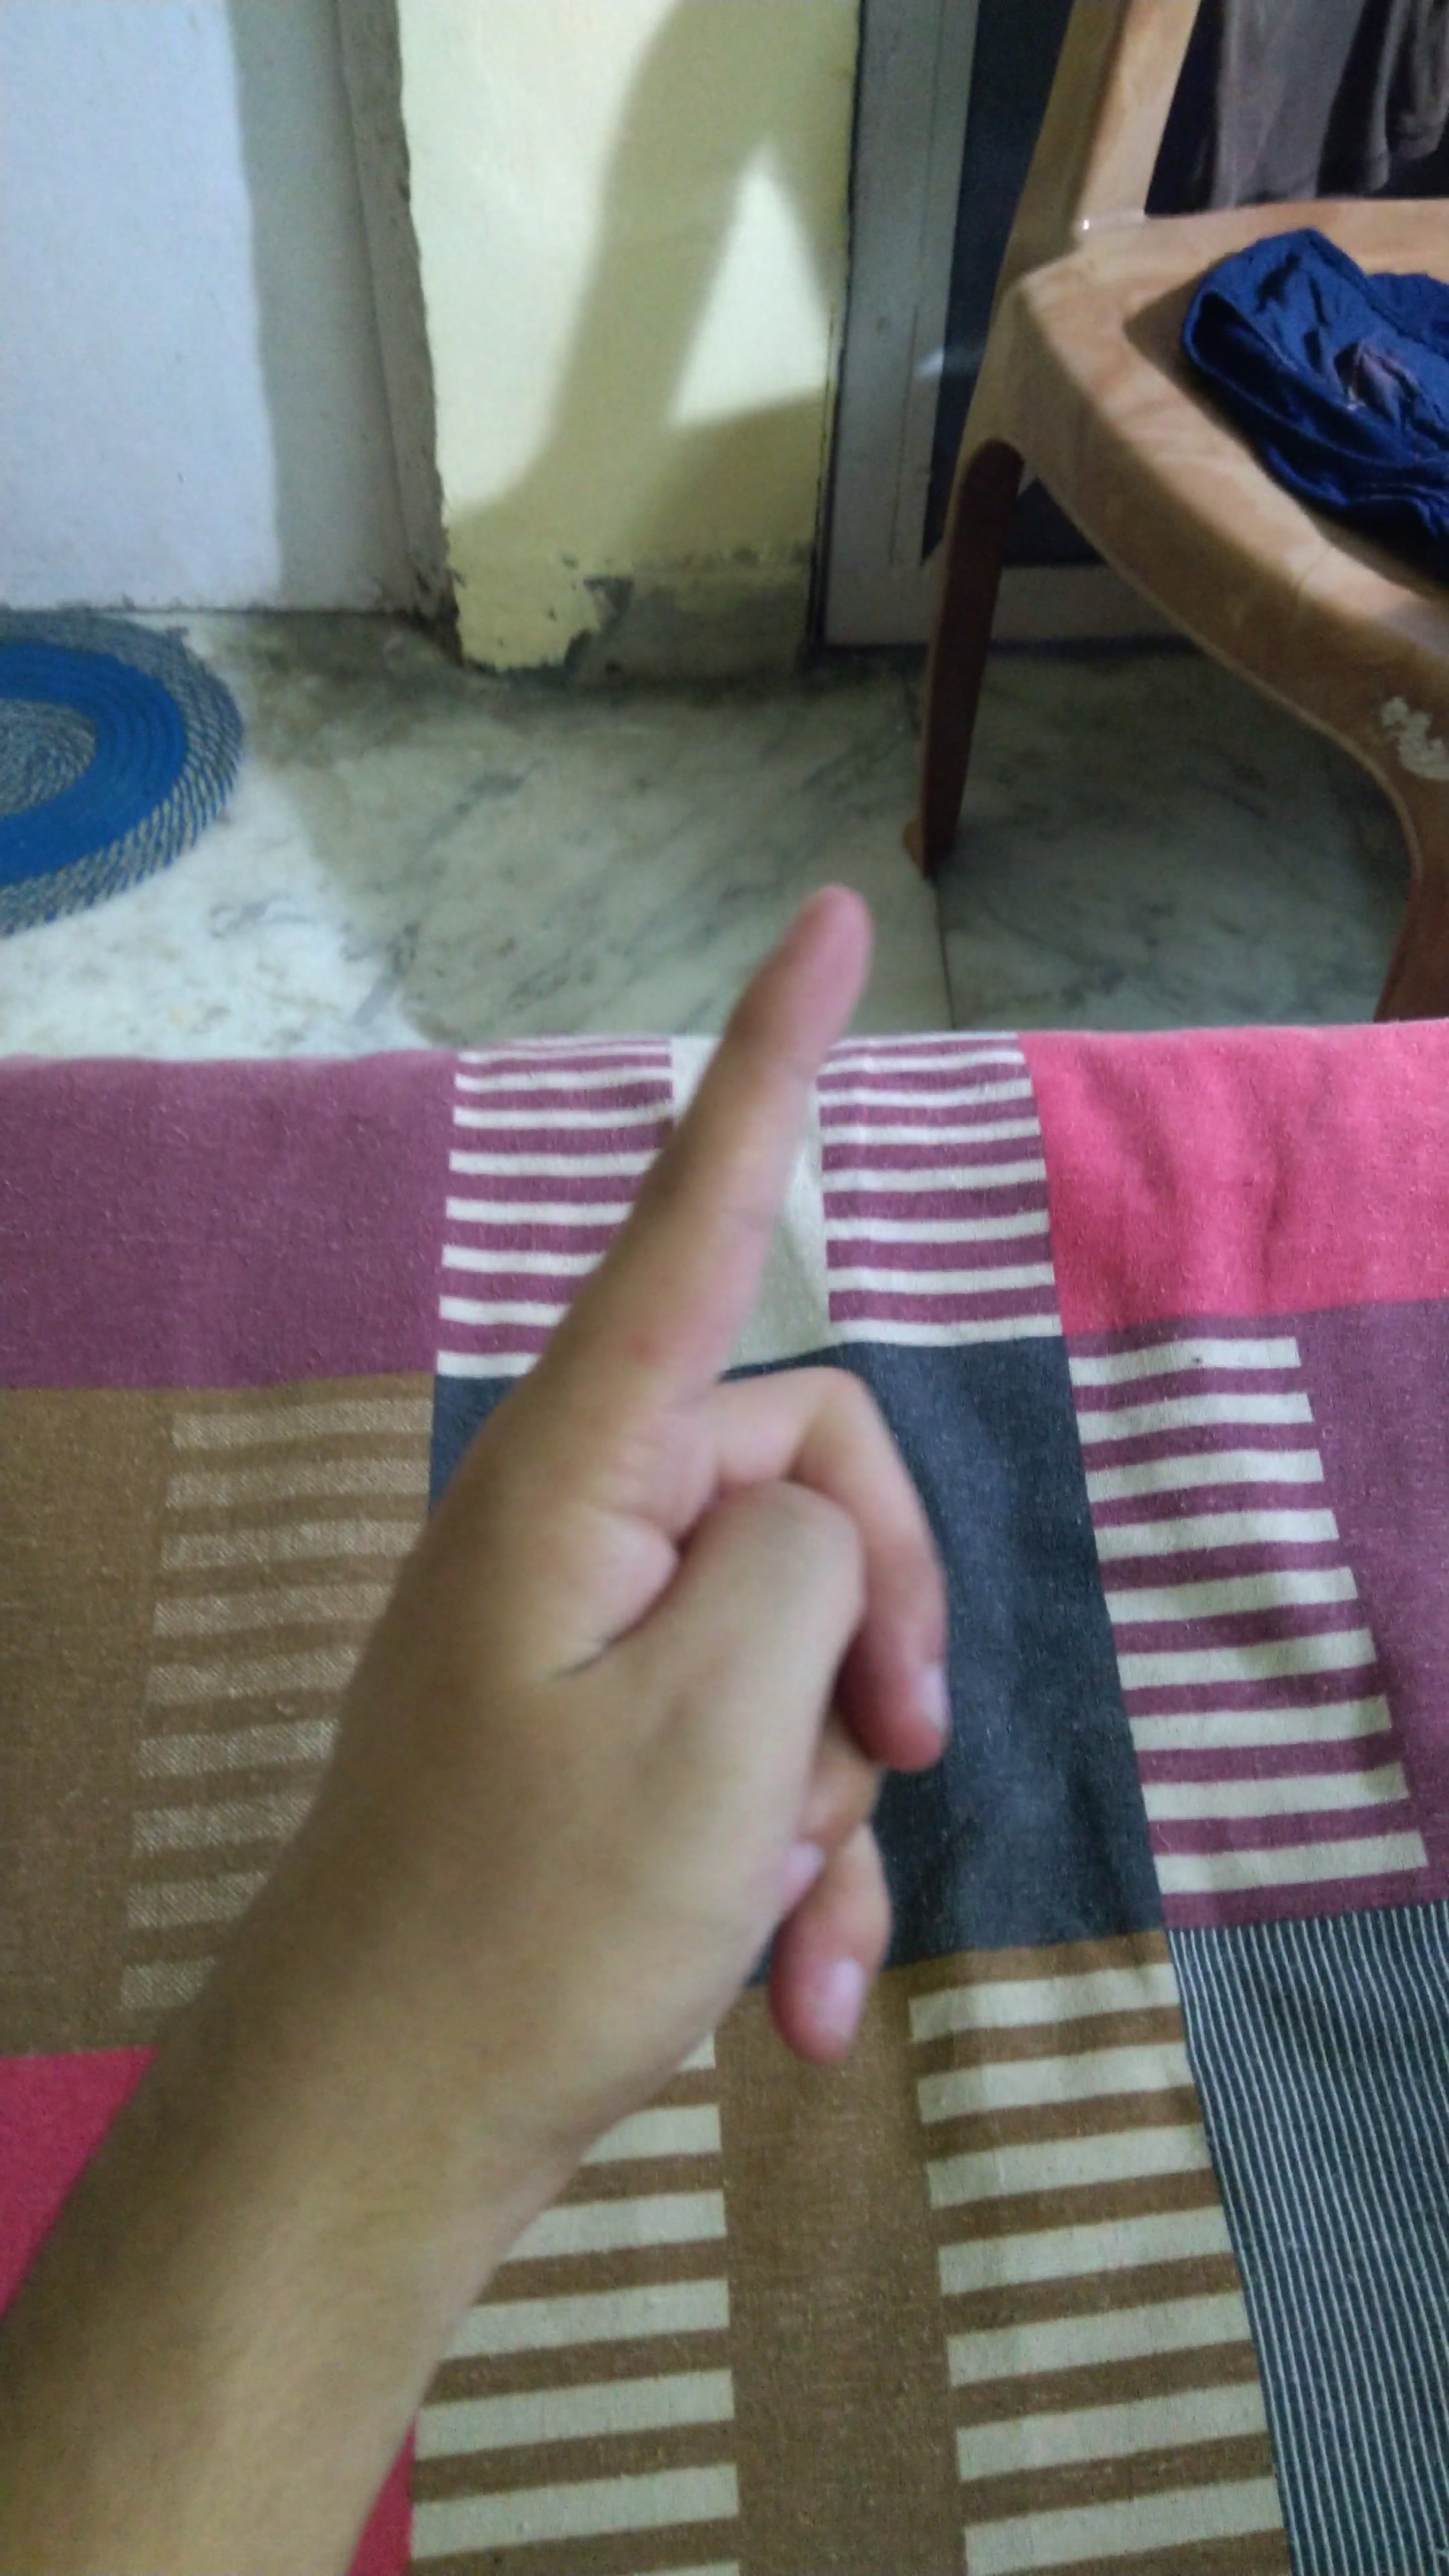hand: (241, 816, 1134, 2121)
